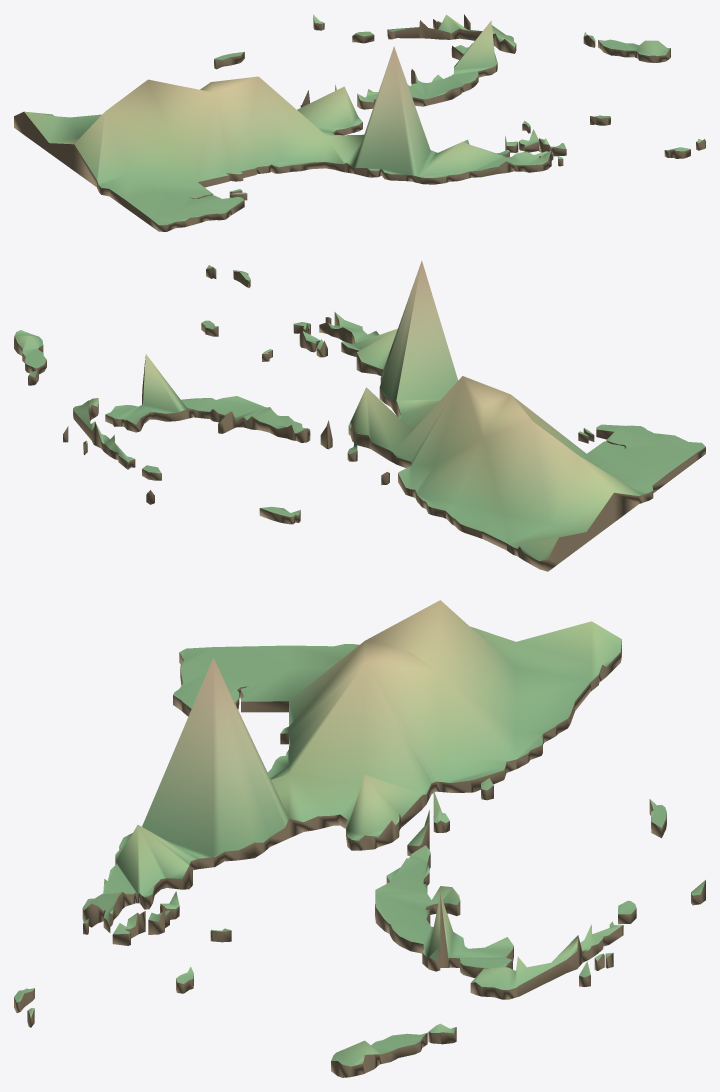
File: PNG.glb
3 renders of one model, top to bottom at view 1: azimuth 30°, elevation 25°; view 2: azimuth 150°, elevation 25°; view 3: azimuth 270°, elevation 25°, orthographic. The views are drawn at different scales.
Visible parts, largest first — view 1: PNG; view 2: PNG; view 3: PNG.
Boxes of the visible parts, x1,y1,x2,y2 form: PNG: (14,14,705,231); PNG: (14,260,705,571); PNG: (14,600,705,1077).
Size of the model in its own units: 1.68 by 0.338 by 1.16.
